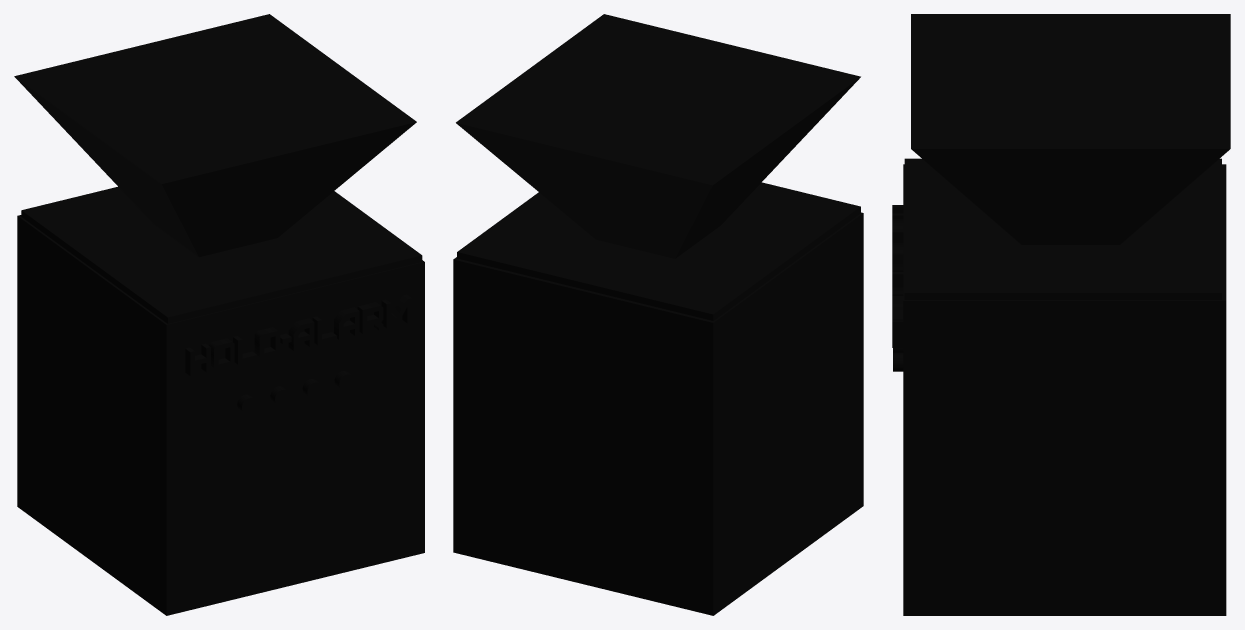
File: mockup1.glb
The picture shows the model from 3 angles, left to right: view 1: azimuth 30°, elevation 25°; view 2: azimuth 150°, elevation 25°; view 3: azimuth 270°, elevation 25°; orthographic projection. The views are drawn at different scales.
Visible parts, largest first — view 1: mesh_id29, mesh_id36, mesh_id53, mesh_id51; view 2: mesh_id29, mesh_id36, mesh_id53; view 3: mesh_id29, mesh_id36, mesh_id53, mesh_id51.
Boxes of the visible parts, x1,y1,x2,y2 form: mesh_id29: [17, 215, 424, 615]; mesh_id36: [14, 14, 416, 256]; mesh_id53: [21, 187, 422, 323]; mesh_id51: [185, 294, 411, 375]; mesh_id29: [453, 212, 863, 615]; mesh_id36: [456, 14, 860, 258]; mesh_id53: [457, 182, 860, 320]; mesh_id29: [903, 164, 1226, 615]; mesh_id36: [911, 14, 1230, 244]; mesh_id53: [904, 158, 1221, 299]; mesh_id51: [892, 205, 903, 347].
Size of the model in its own units: 0.2109 by 0.333 by 0.2196.
5 materials, 2 textured.
